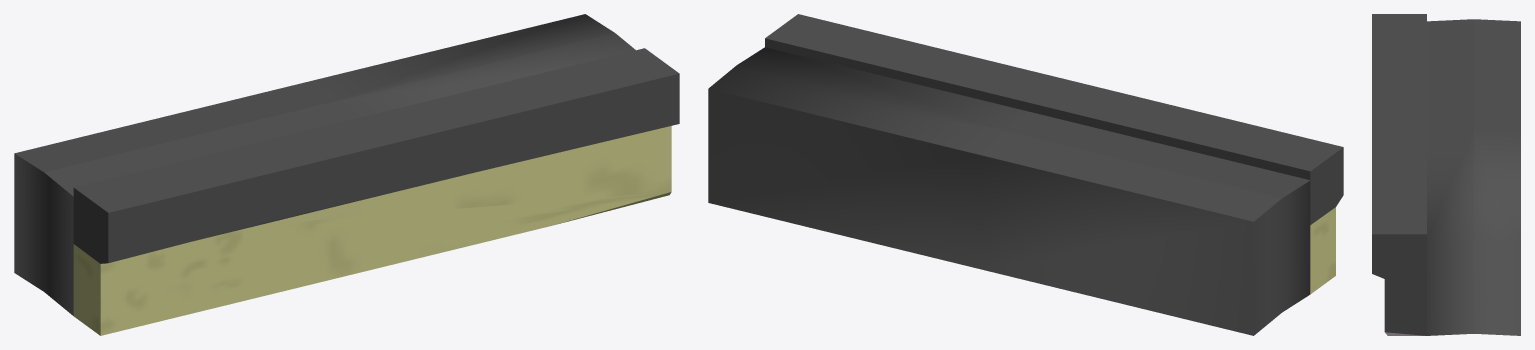
The model's file is Roof_SideWall_01.fbx.
3 views of the same model, side by side, from view 1: azimuth 30°, elevation 25°; view 2: azimuth 150°, elevation 25°; view 3: azimuth 270°, elevation 25° (orthographic). The views are drawn at different scales.
Parts seen in each view (by area): view 1: SM_Bld_Wall_Trim_09.003; view 2: SM_Bld_Wall_Trim_09.003; view 3: SM_Bld_Wall_Trim_09.003.
Boxes of the visible parts, box(x1,y1,x2,y2) form: SM_Bld_Wall_Trim_09.003: box(14, 14, 679, 335); SM_Bld_Wall_Trim_09.003: box(708, 14, 1343, 335); SM_Bld_Wall_Trim_09.003: box(1372, 14, 1520, 335).
Bounding box in the file's own units: 125 × 26.95 × 35.69.
